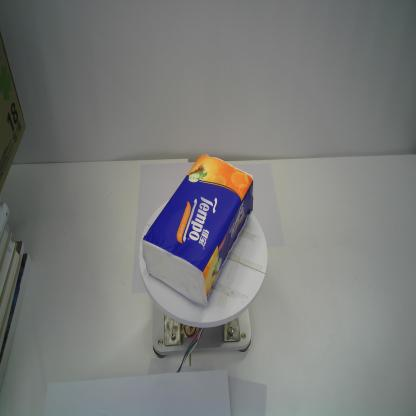Tissue: (141, 152, 254, 308)
